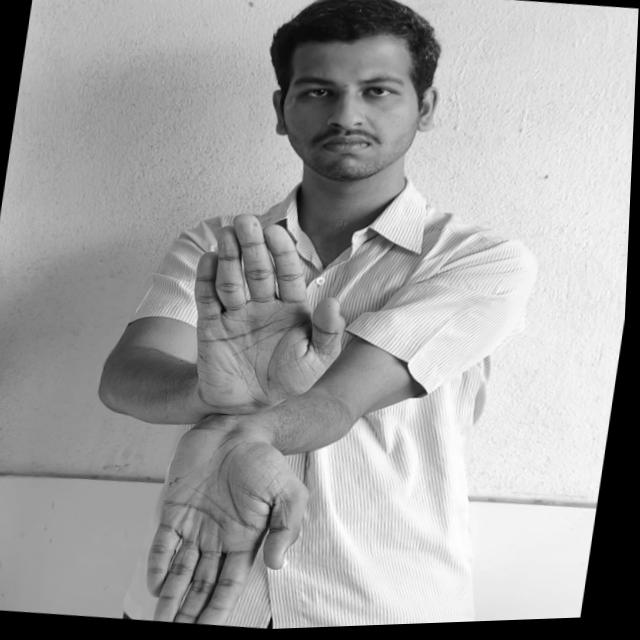Morning: (145, 207, 368, 634)
